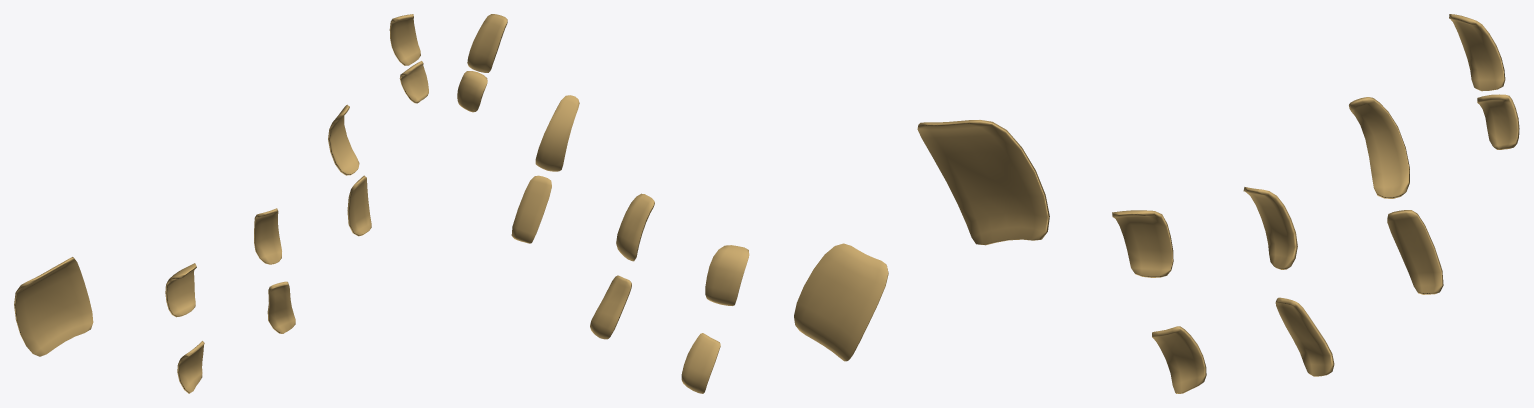
3 renders of one model, left to right at view 1: azimuth 30°, elevation 25°; view 2: azimuth 150°, elevation 25°; view 3: azimuth 330°, elevation 25°, orthographic. The views are drawn at different scales.
Visible parts, largest first — view 1: 左侧趾间关节足底韧带; view 2: 左侧趾间关节足底韧带; view 3: 左侧趾间关节足底韧带.
Boxes of the visible parts, <box> form: 左侧趾间关节足底韧带: <box>14,14,428,393</box>; 左侧趾间关节足底韧带: <box>457,14,888,393</box>; 左侧趾间关节足底韧带: <box>917,14,1519,393</box>.
Size of the model in its own units: 0.1076 by 0.0802 by 0.0118.
